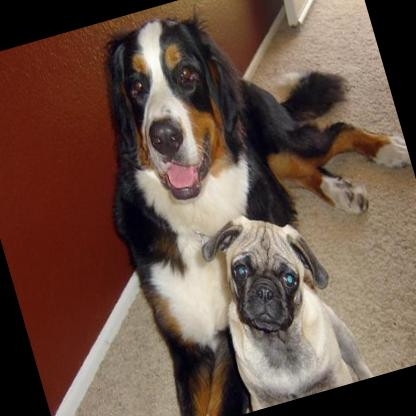Bernese_mountain_dog: (59, 0, 416, 416)
